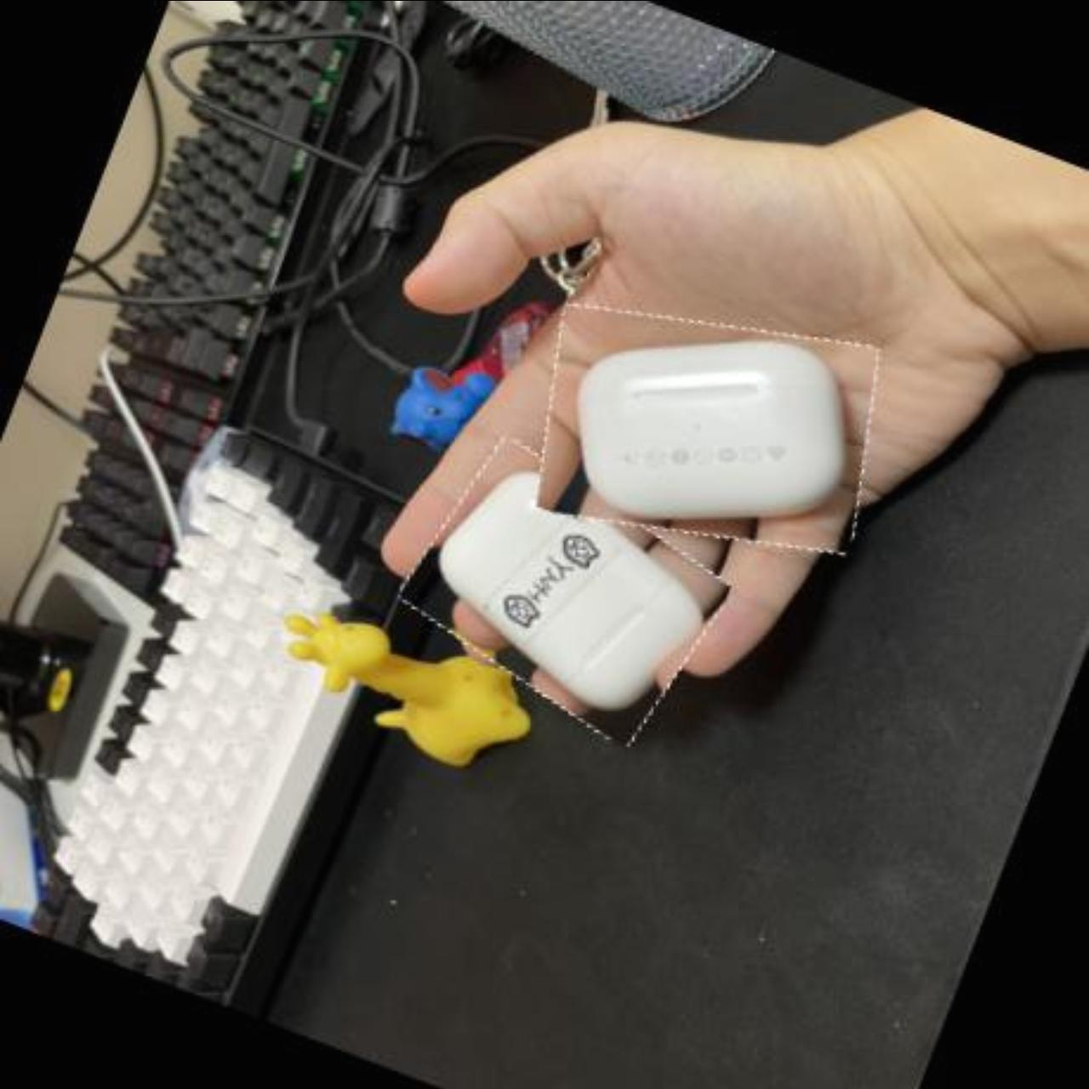AirPods: (509, 258, 909, 601), (390, 437, 742, 749)
